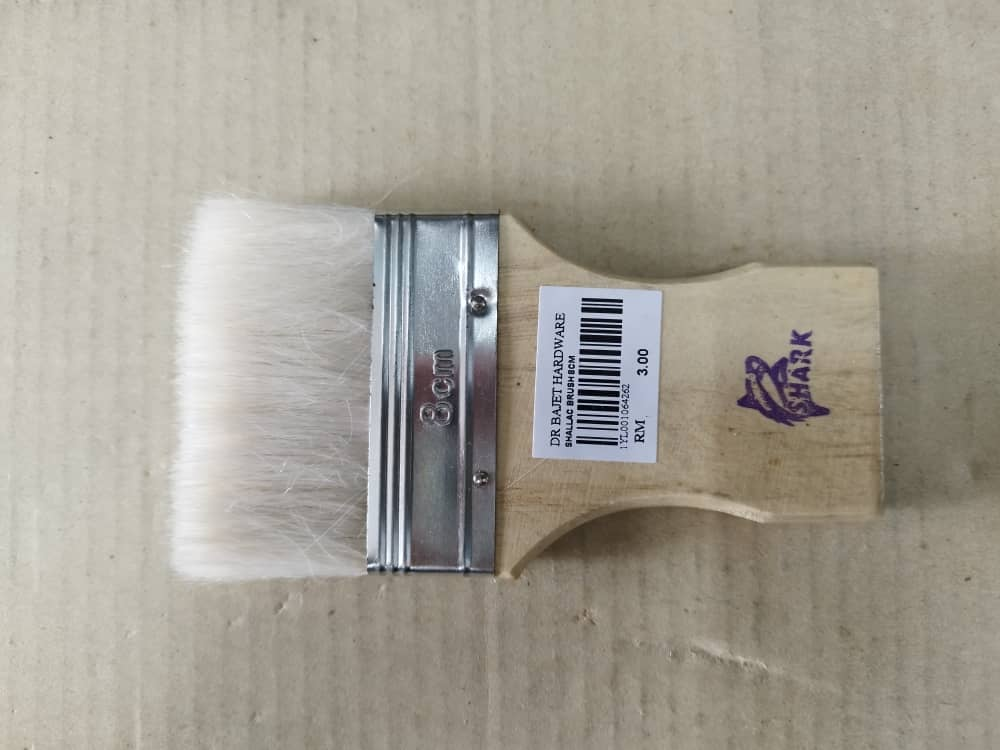sku_medium_brush: (166, 191, 897, 584)
